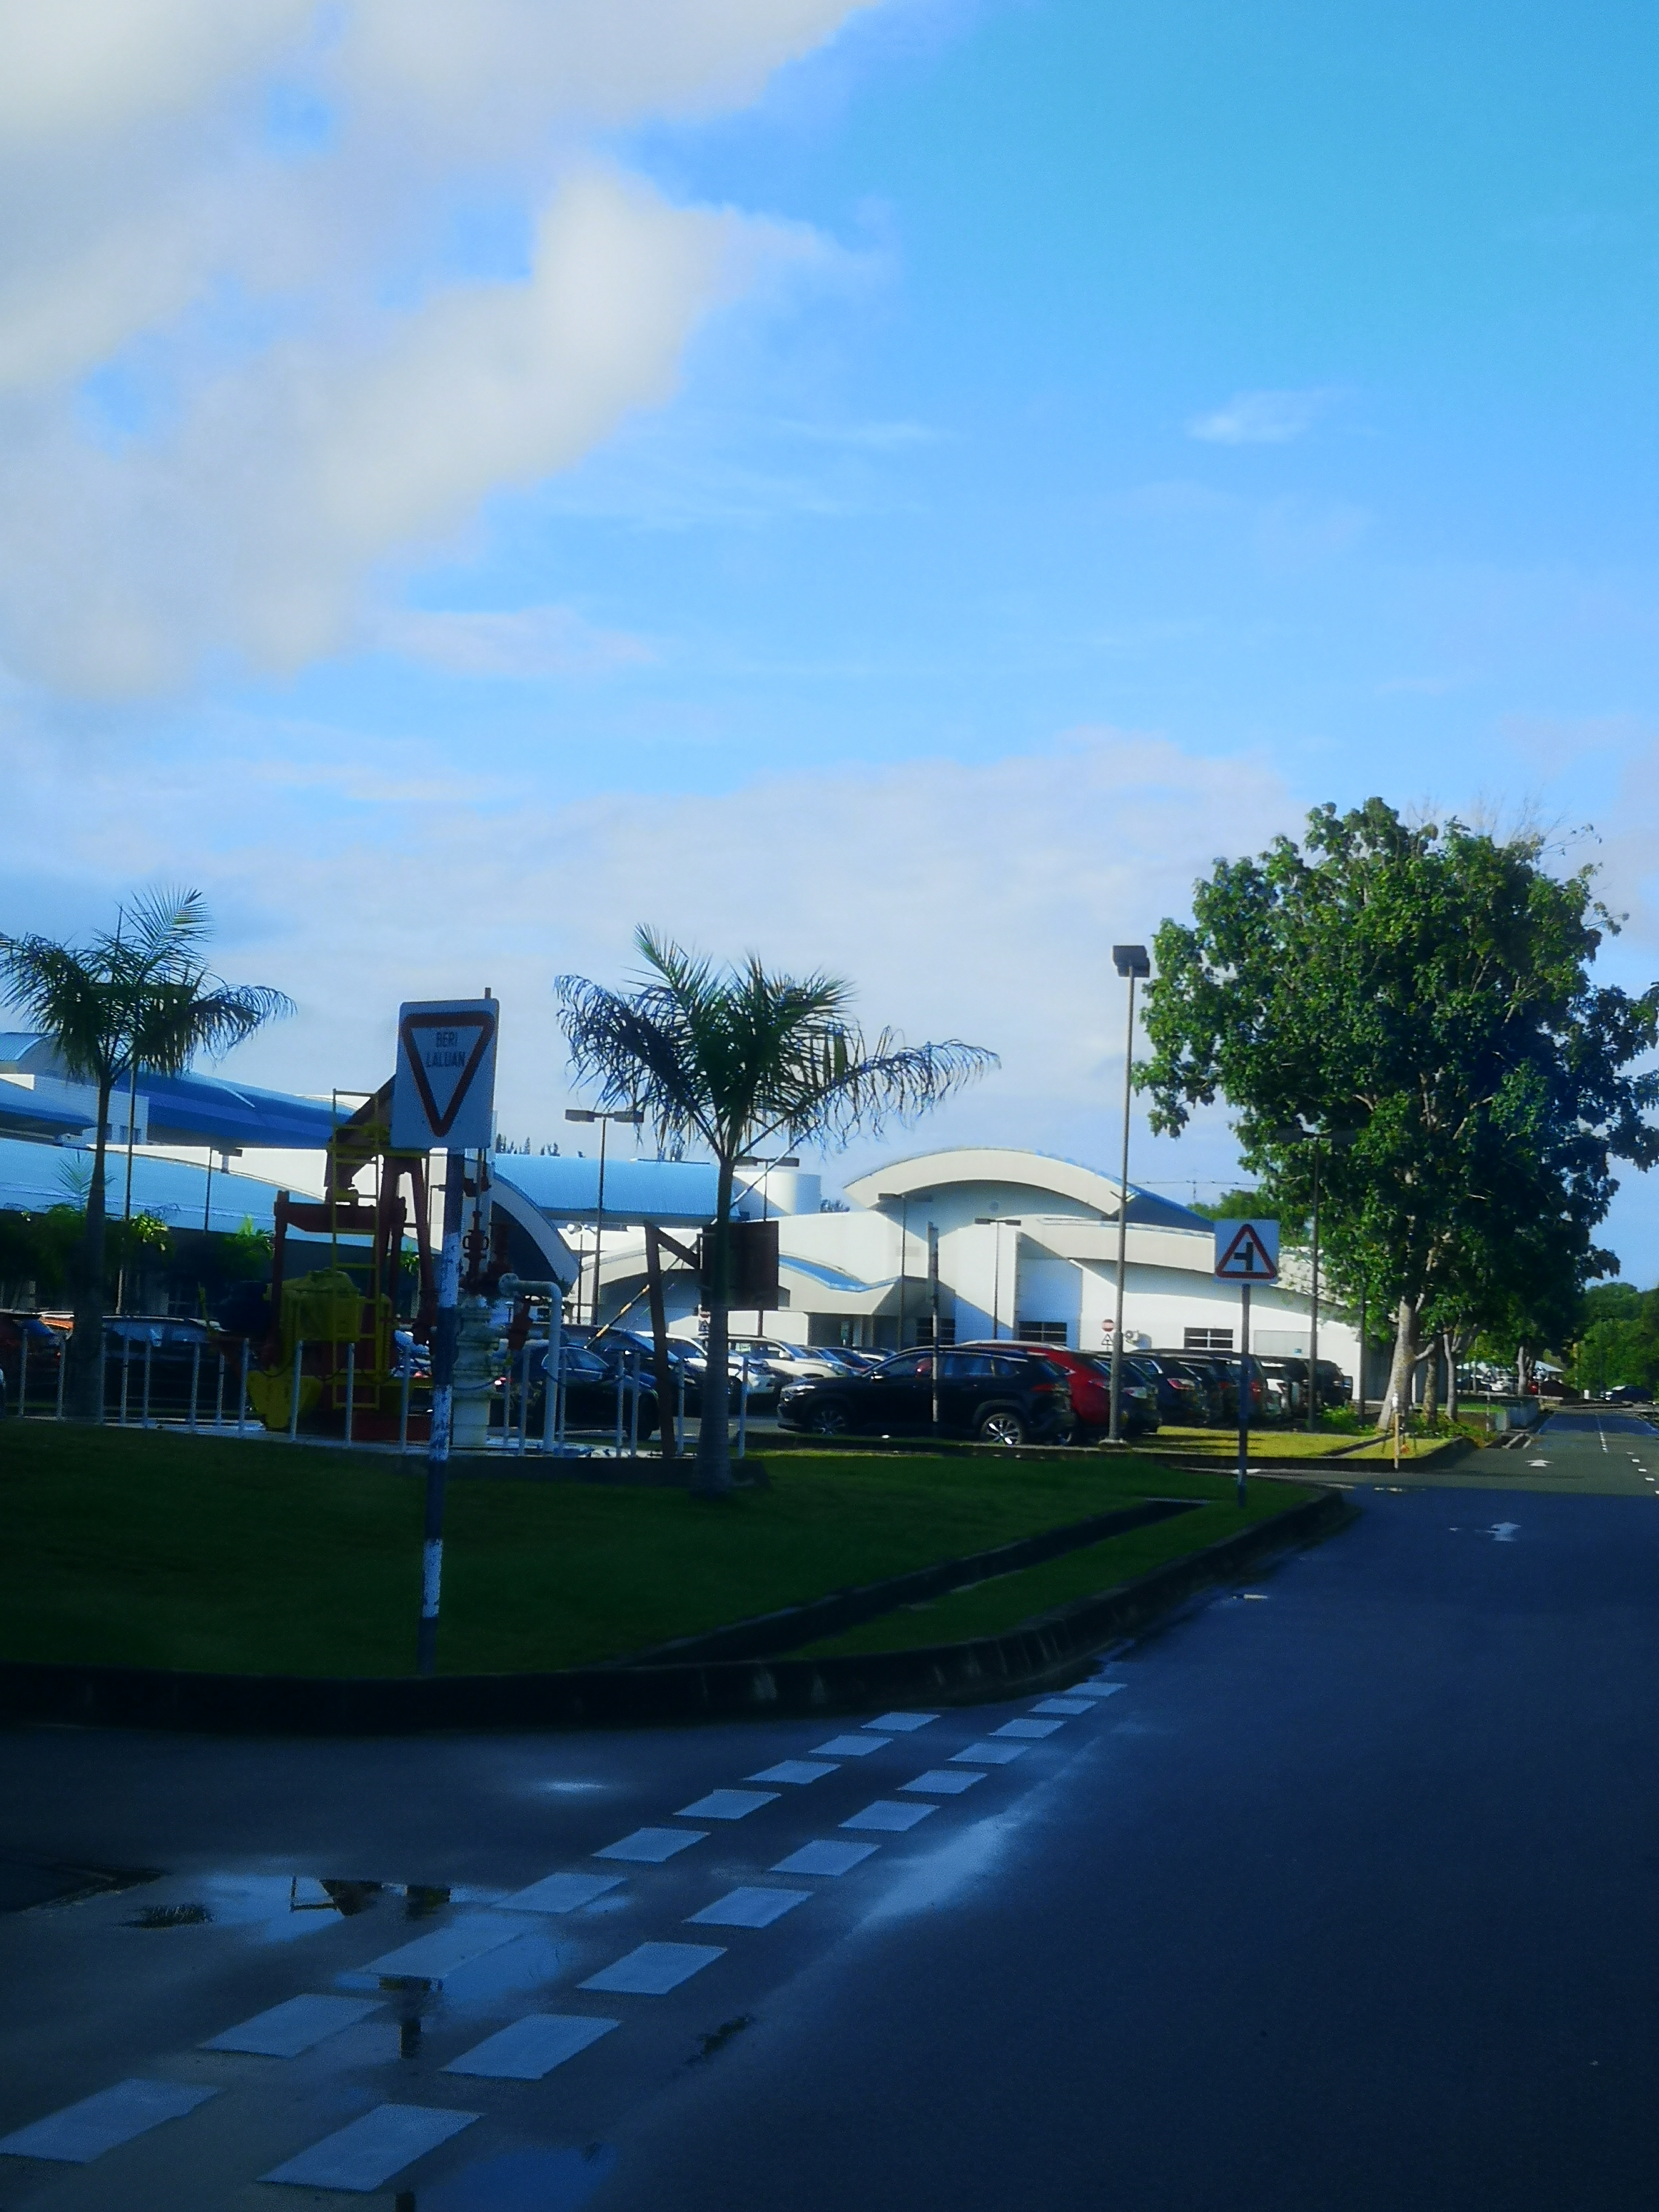give way: (389, 1001, 504, 1162)
side junction on the left: (1202, 1207, 1284, 1287)
